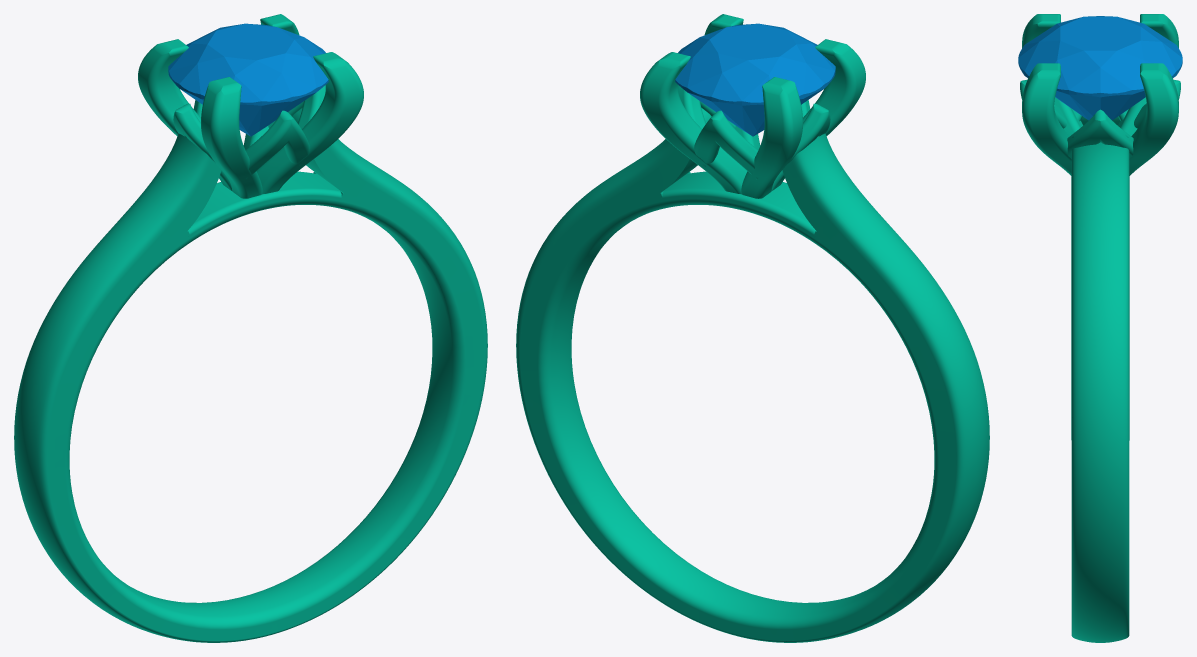
The picture shows the model from 3 angles, left to right: view 1: azimuth 30°, elevation 25°; view 2: azimuth 150°, elevation 25°; view 3: azimuth 270°, elevation 25°; orthographic projection.
Parts seen in each view (by area): view 1: RX-6702(front).3dm, Diamond_Round; view 2: RX-6702(front).3dm, Diamond_Round; view 3: RX-6702(front).3dm, Diamond_Round.
Part boxes in pixels (<box>): RX-6702(front).3dm: <box>14,14,487,642</box>; Diamond_Round: <box>168,23,328,136</box>; RX-6702(front).3dm: <box>516,14,989,642</box>; Diamond_Round: <box>675,23,835,136</box>; RX-6702(front).3dm: <box>1020,14,1180,642</box>; Diamond_Round: <box>1018,16,1182,120</box>.
Size of the model in its own units: 2.48 by 3.04 by 0.7743.
